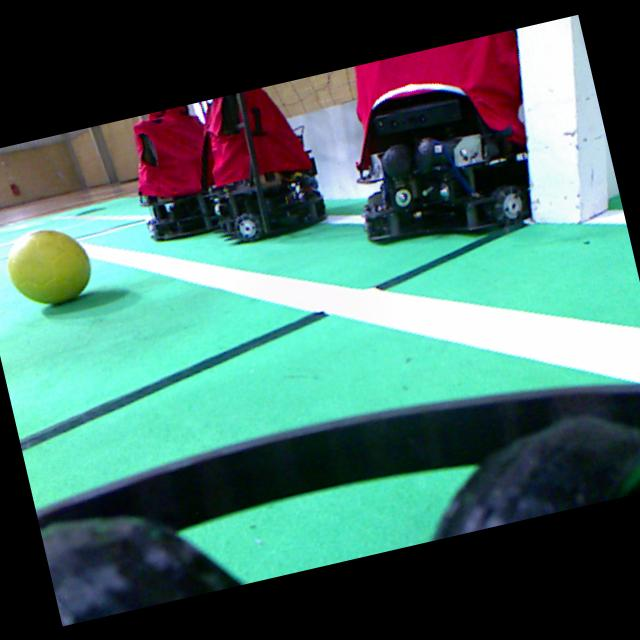ball: (7, 229, 90, 303)
goal: (516, 14, 618, 221)
